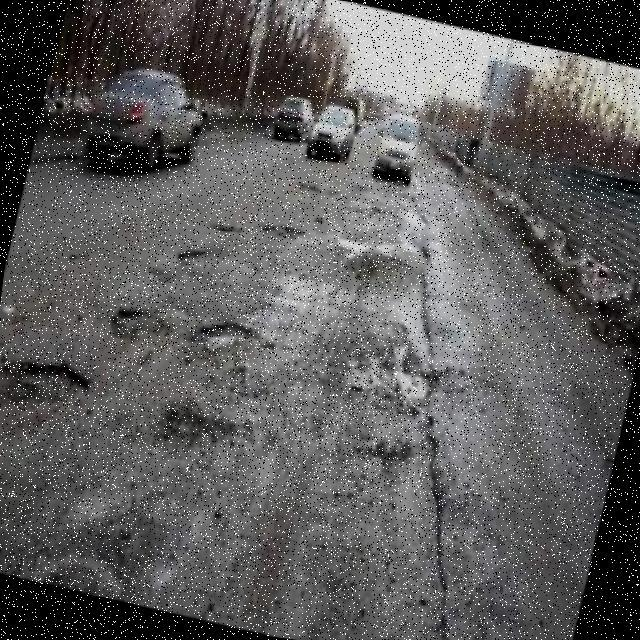Pothole: (0, 362, 89, 399), (108, 307, 168, 342), (193, 323, 261, 350)
